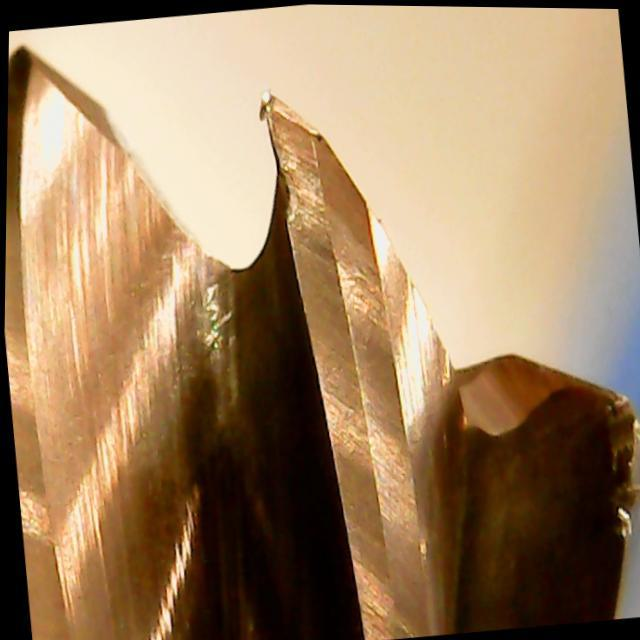Tool-wear-class-1: (240, 82, 389, 323)
